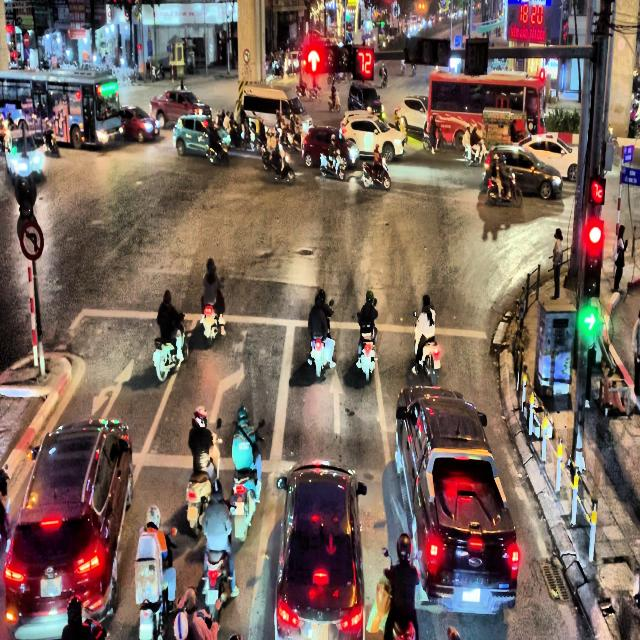BUS: (0, 68, 123, 150), (426, 68, 546, 152)
CAR: (3, 417, 133, 639), (274, 460, 367, 640), (482, 144, 563, 200), (340, 110, 407, 162), (172, 114, 230, 164), (520, 134, 578, 182), (301, 126, 360, 170), (150, 90, 212, 128), (5, 130, 45, 184), (118, 105, 160, 143), (394, 95, 428, 136), (348, 82, 384, 118)
MOTORBIKE: (197, 485, 237, 619), (134, 527, 177, 639), (229, 419, 264, 542), (186, 433, 222, 535), (153, 316, 189, 382), (412, 310, 440, 386), (308, 299, 335, 377), (200, 284, 225, 347), (356, 312, 377, 382), (486, 170, 523, 208), (261, 144, 295, 185), (206, 124, 230, 166), (362, 156, 391, 190), (319, 150, 346, 181), (422, 126, 447, 154), (463, 138, 486, 166), (42, 130, 59, 157), (328, 91, 340, 112), (380, 70, 387, 88)
